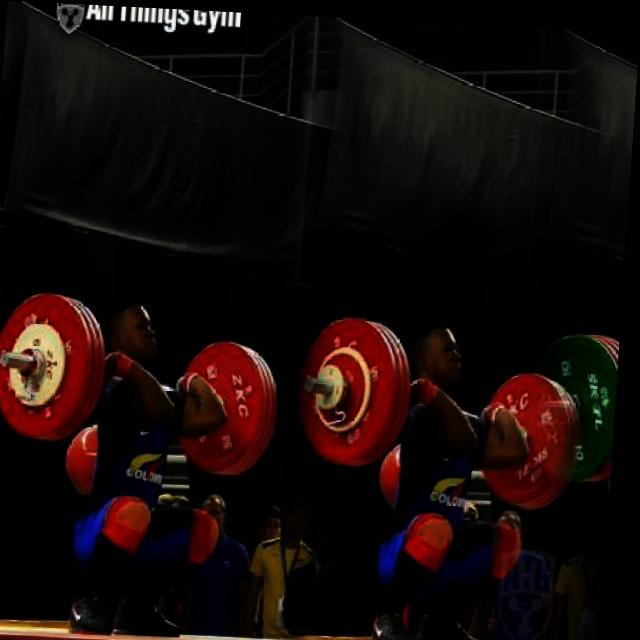barbell: (1, 285, 103, 443), (304, 309, 406, 467)
